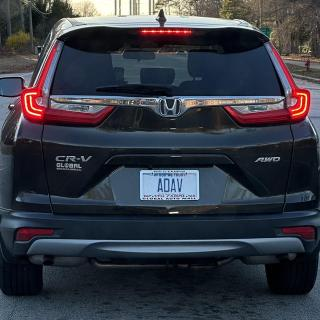license: (140, 171, 201, 202)
